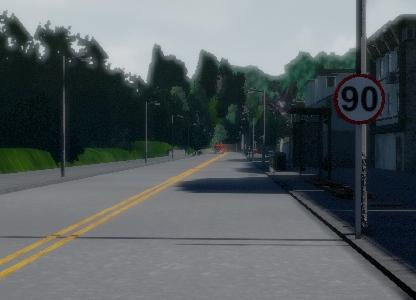Speed_90: (333, 72, 386, 125)
